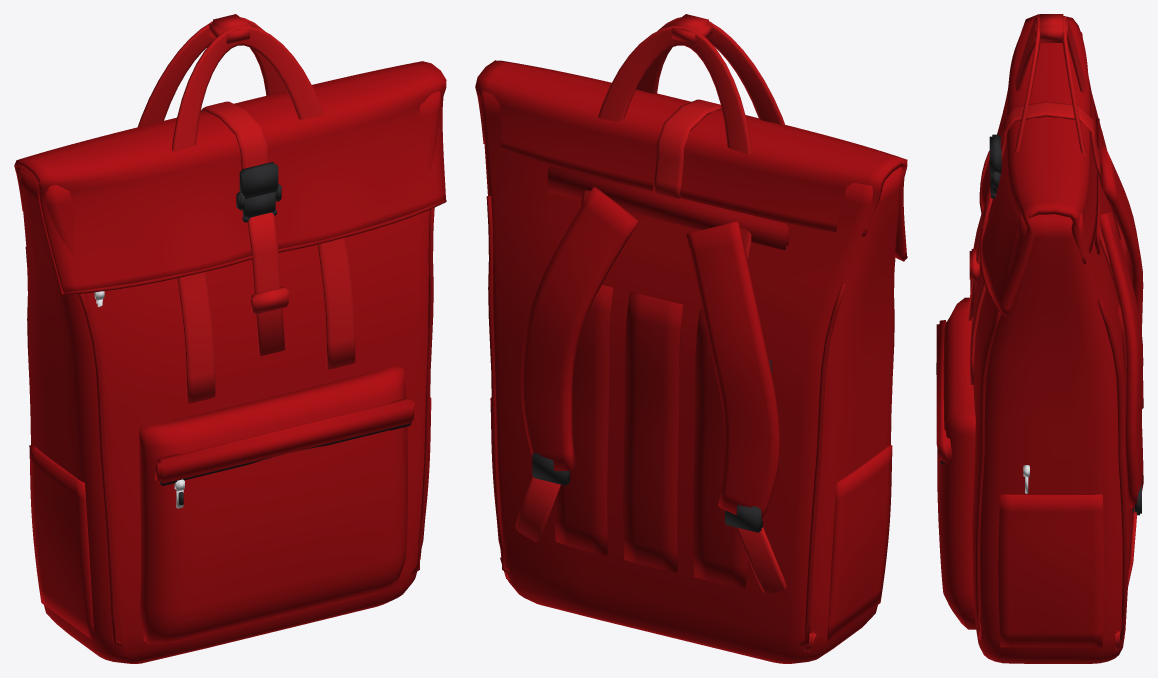
Rendered from Backpack.glb.
3 renders of one model, left to right at view 1: azimuth 30°, elevation 25°; view 2: azimuth 150°, elevation 25°; view 3: azimuth 270°, elevation 25°, orthographic. The views are drawn at different scales.
Parts seen in each view (by area): view 1: MainBody, FrontPocket, FoldFlap, WebbingStraps, SidePockets, BodyPiping, PlasticBuckles; view 2: MainBody, BackPaddingMesh, FoldFlap, ShoulderStraps, WebbingStraps, SidePockets, BodyPiping, PlasticBuckles; view 3: MainBody, FoldFlap, SidePockets, FrontPocket, ShoulderStraps, WebbingStraps, BodyPiping, PlasticBuckles, BackPaddingMesh.
Boxes of the visible parts, box(x1,y1,x2,y2) form: MainBody: box(20, 91, 440, 663); FrontPocket: box(139, 365, 414, 644); FoldFlap: box(14, 61, 446, 294); WebbingStraps: box(138, 14, 355, 403); SidePockets: box(29, 397, 431, 640); BodyPiping: box(25, 199, 446, 645); PlasticBuckles: box(178, 162, 281, 505); MainBody: box(482, 91, 901, 663); BackPaddingMesh: box(547, 166, 788, 588); FoldFlap: box(475, 60, 907, 261); ShoulderStraps: box(521, 187, 780, 521); WebbingStraps: box(500, 14, 816, 652); SidePockets: box(490, 397, 892, 640); BodyPiping: box(486, 196, 907, 645); PlasticBuckles: box(532, 452, 762, 532); MainBody: box(972, 32, 1129, 663); FoldFlap: box(981, 14, 1098, 316); SidePockets: box(998, 494, 1104, 647); FrontPocket: box(936, 297, 975, 629); ShoulderStraps: box(1099, 146, 1143, 507); WebbingStraps: box(968, 14, 1136, 650); BodyPiping: box(975, 131, 1127, 640); PlasticBuckles: box(936, 134, 1141, 515); BackPaddingMesh: box(1095, 116, 1132, 559).
Size of the model in its own units: 0.3719 by 0.515 by 0.1675.
